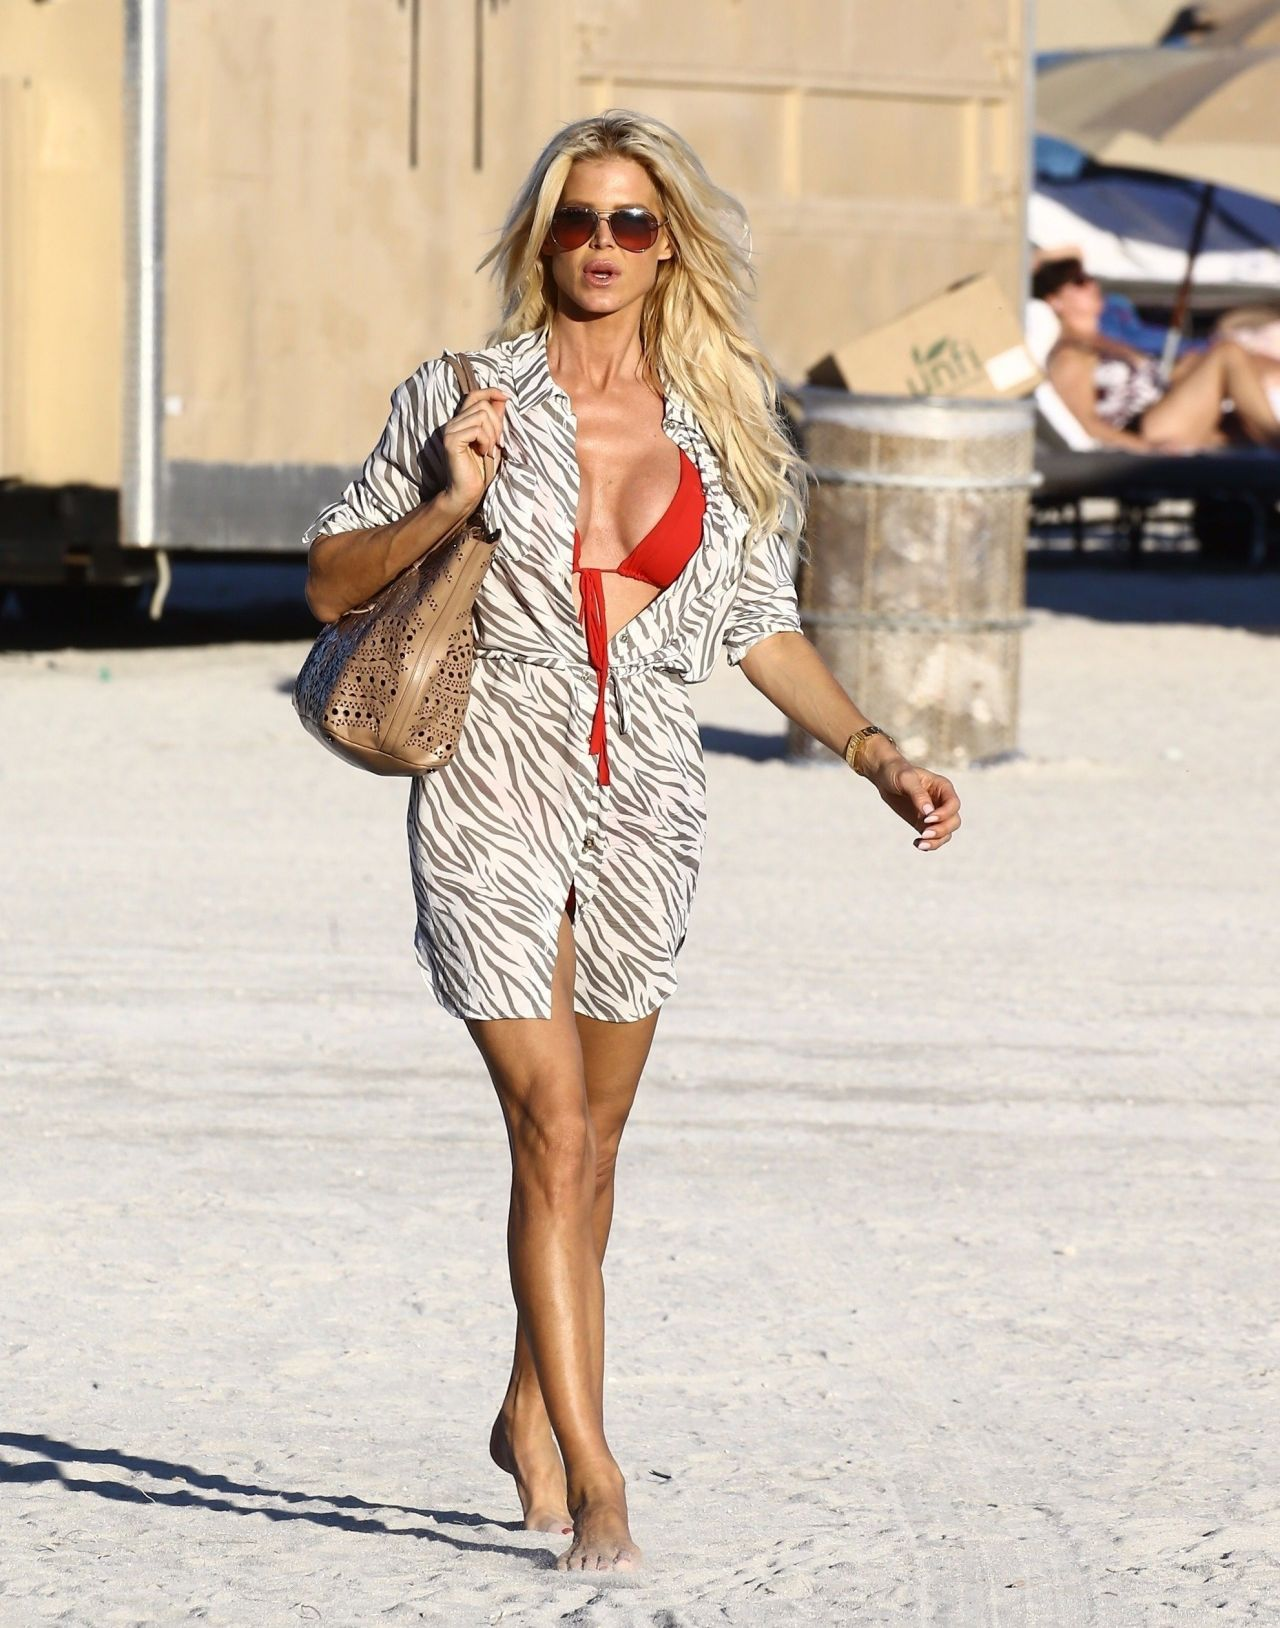Person: (299, 108, 991, 1597)
